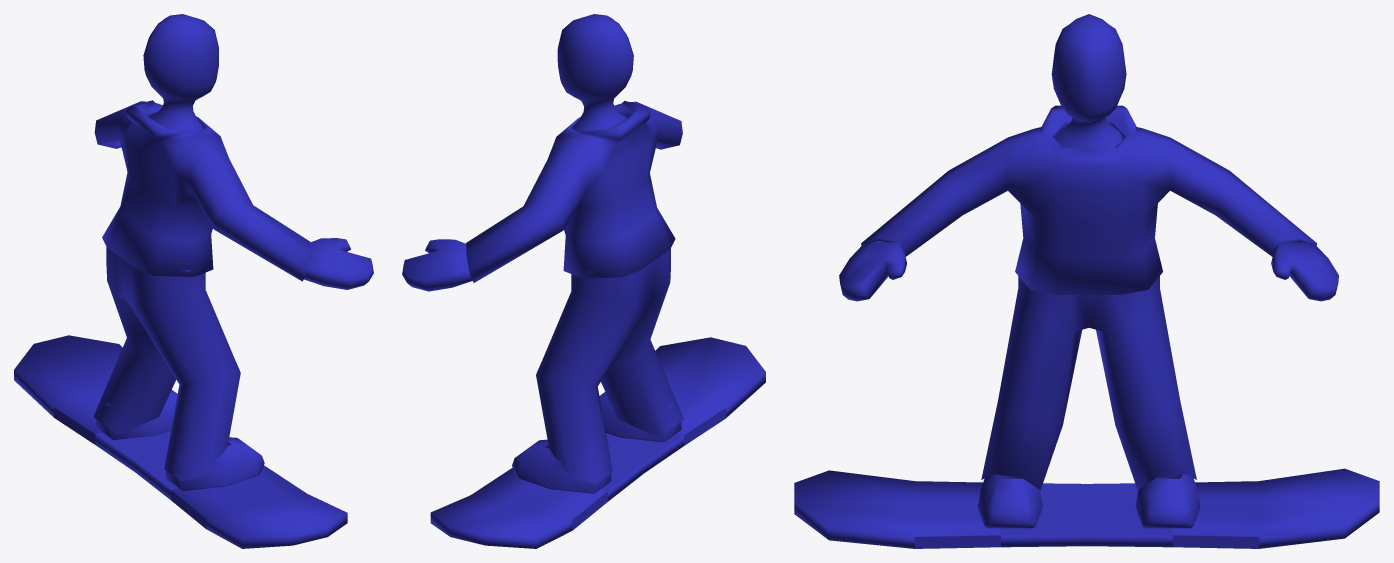
Rendered from snowboard.dae.
3 renders of one model, left to right at view 1: azimuth 30°, elevation 25°; view 2: azimuth 150°, elevation 25°; view 3: azimuth 270°, elevation 25°, orthographic. The views are drawn at different scales.
Visible parts, largest first — view 1: head; view 2: head; view 3: head.
Boxes of the visible parts, box(x1,y1,x2,y2) form: head: box(14, 14, 373, 548); head: box(402, 14, 765, 548); head: box(794, 14, 1379, 548).
Bounding box in the file's own units: 48.09 × 141 × 133.
